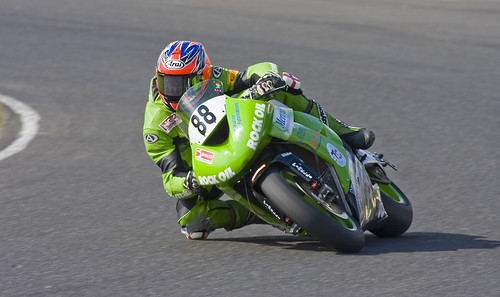helmet: (146, 30, 211, 92)
